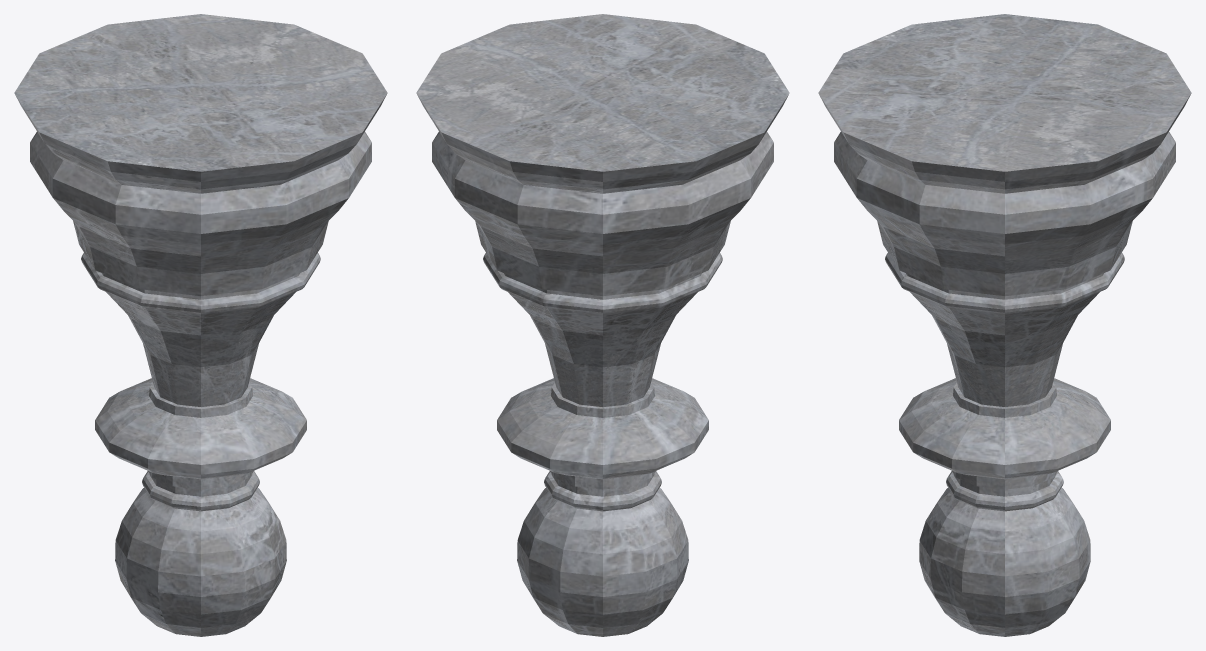
The model's file is pawn.obj.
The picture shows the model from 3 angles, left to right: view 1: azimuth 30°, elevation 25°; view 2: azimuth 150°, elevation 25°; view 3: azimuth 270°, elevation 25°; orthographic projection.
Parts seen in each view (by area): view 1: pawn; view 2: pawn; view 3: pawn.
Part boxes in pixels (box(x1,y1,x2,y2)): pawn: box(14, 14, 387, 636); pawn: box(416, 14, 789, 636); pawn: box(818, 14, 1191, 636).
Bounding box in the file's own units: 0.1378 × 0.2168 × 0.1378.
1 material, 1 textured.
